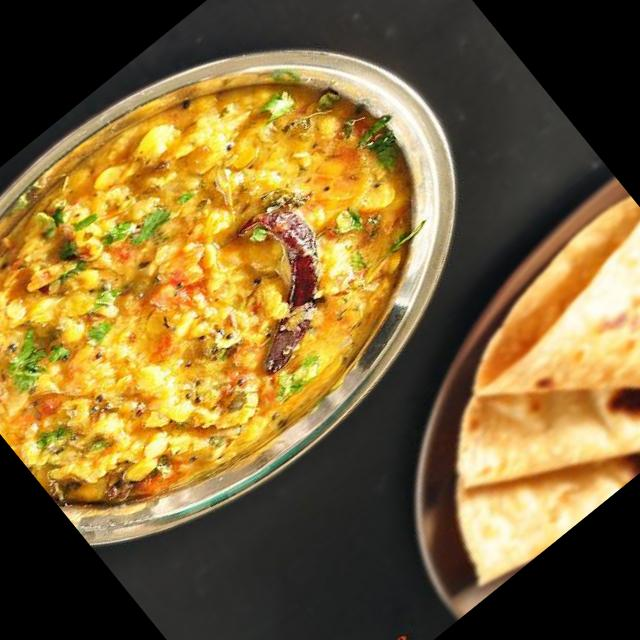dal: (0, 0, 526, 598)
roti: (331, 196, 640, 606)
